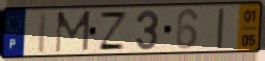3: (134, 8, 160, 52)
6: (174, 7, 202, 51)
I: (35, 11, 50, 55), (215, 6, 226, 50)
M: (53, 9, 93, 55)
Z: (96, 11, 129, 52)
